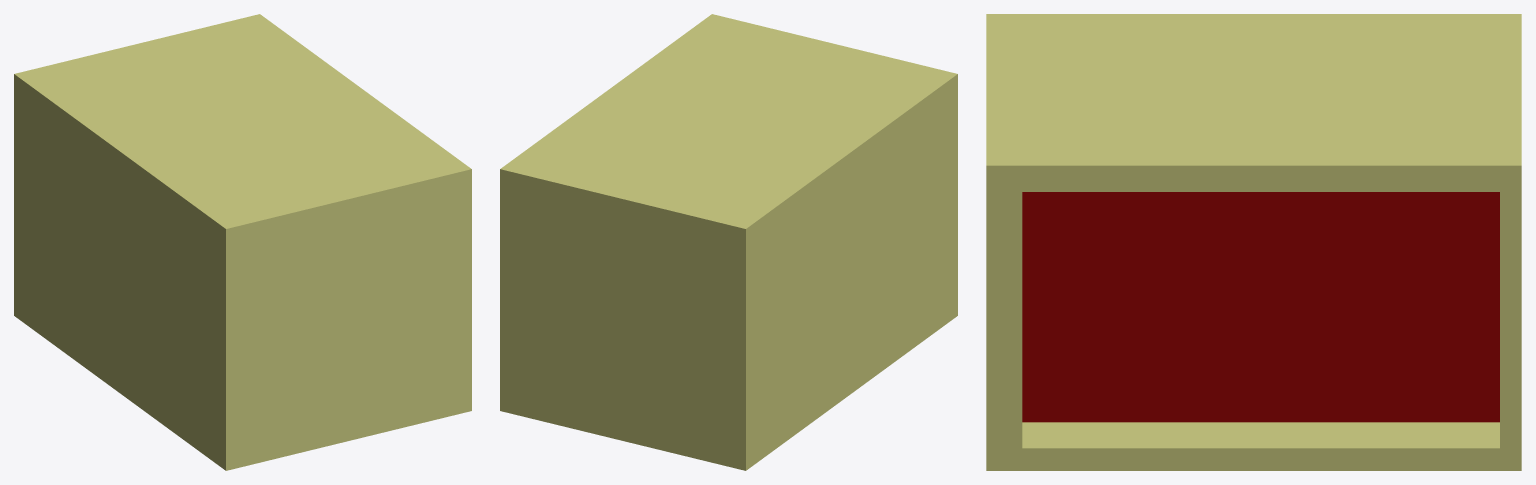
Rendered from jornaleiro.fbx.
3 views of the same model, side by side, from view 1: azimuth 30°, elevation 25°; view 2: azimuth 150°, elevation 25°; view 3: azimuth 270°, elevation 25° (orthographic). The views are drawn at different scales.
Visible parts, largest first — view 1: pCube1; view 2: pCube1; view 3: pCube1.
Part boxes in pixels (x1,y1,x2,y2): pCube1: (14, 14, 471, 470); pCube1: (500, 14, 957, 470); pCube1: (986, 14, 1521, 470).
Bounding box in the file's own units: 6.35 × 5.97 × 9.48.
